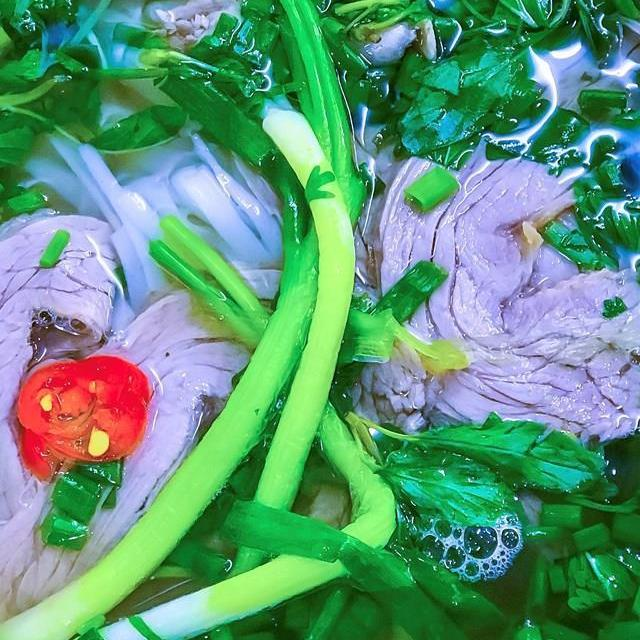banh pho: (15, 106, 305, 308)
pho bo: (0, 0, 640, 640)
thit bo: (0, 263, 295, 640), (363, 132, 640, 459), (0, 207, 117, 621), (478, 5, 640, 269), (554, 0, 640, 164), (149, 0, 281, 63)
